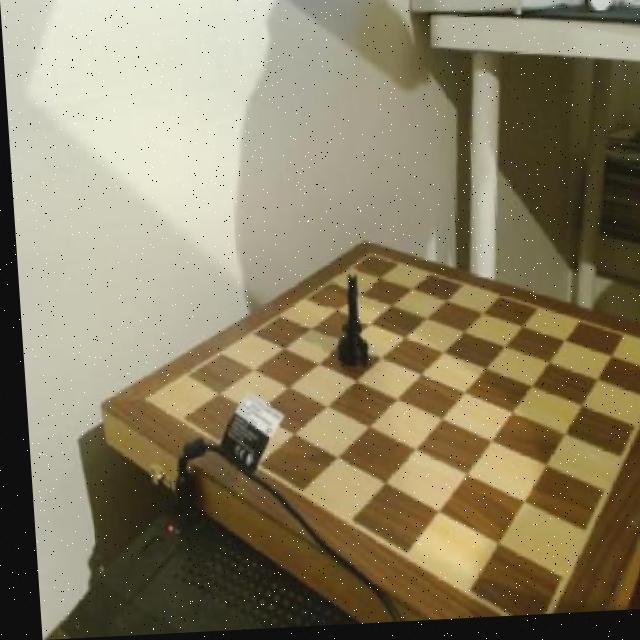black-king: (320, 272, 371, 376)
